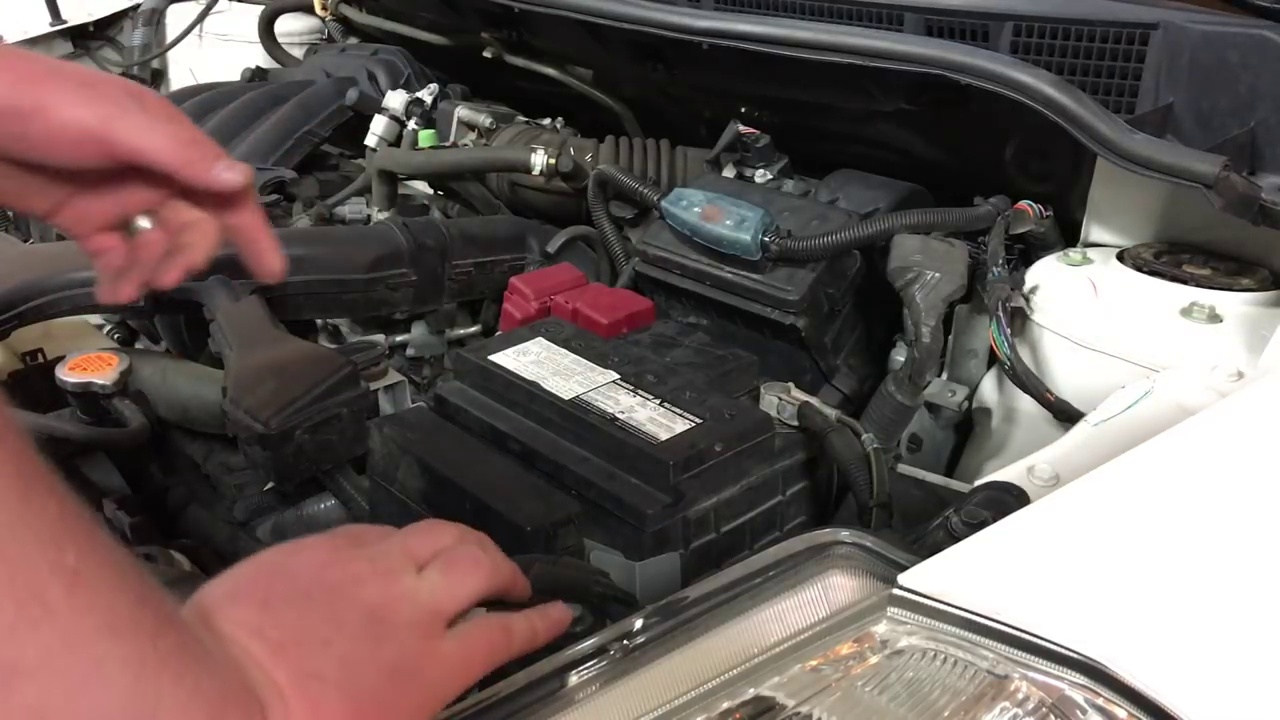battery: (444, 289, 816, 470)
neg_connected: (748, 346, 840, 474)
pos_connected: (491, 256, 668, 345)
